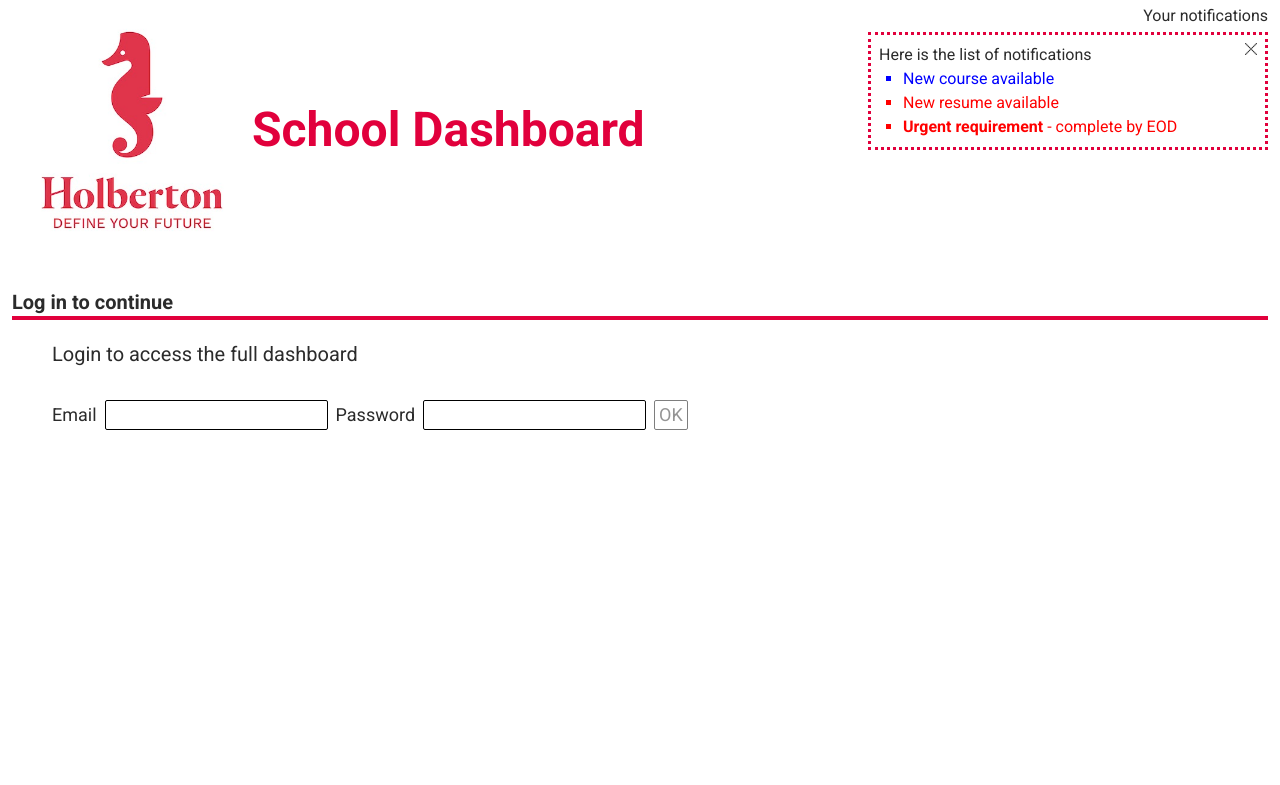
it: App › logs the user out when ctrl and h are pressed
The width and height of the screenshot is (1280, 785).
Type "user@example.com" into the field labelled "Email" at [216, 415], box [105, 400, 328, 430]
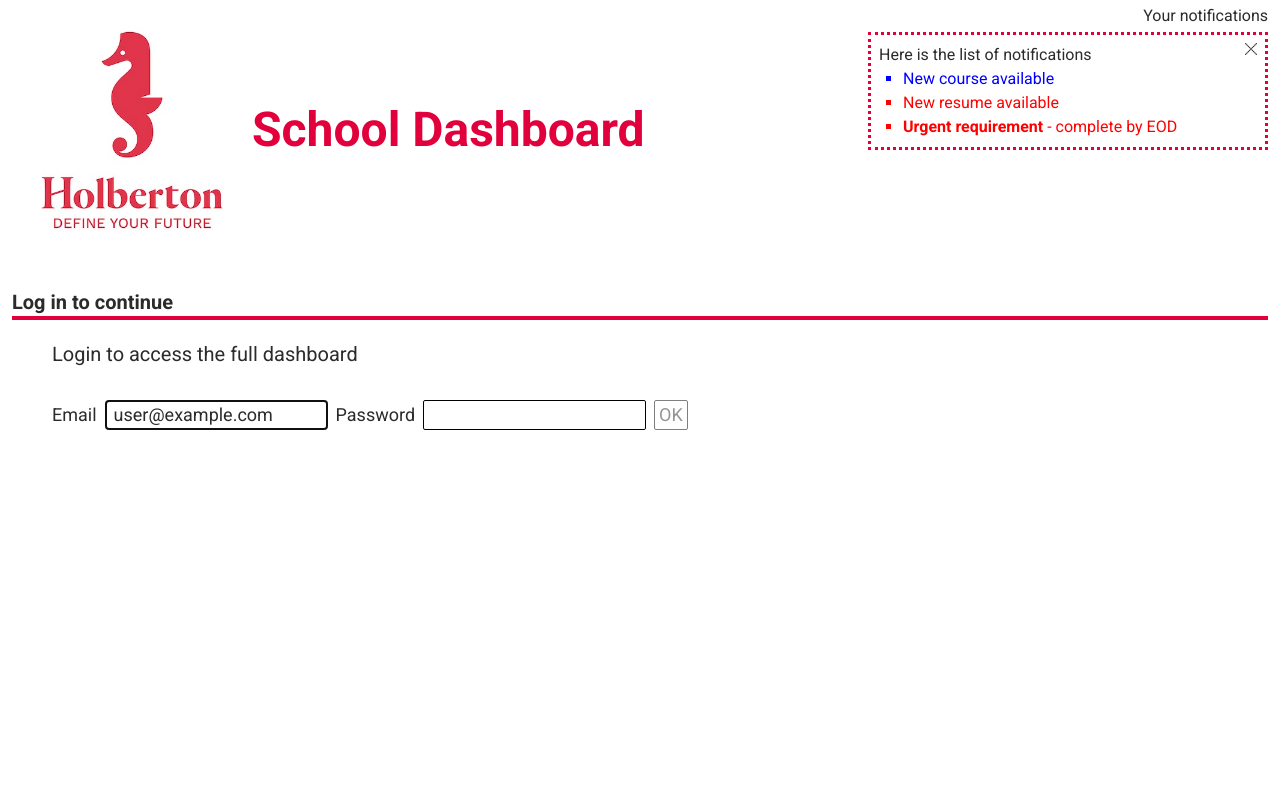
Type "secret-password" into the password field labelled "Password" at [535, 415], box [423, 400, 646, 430]
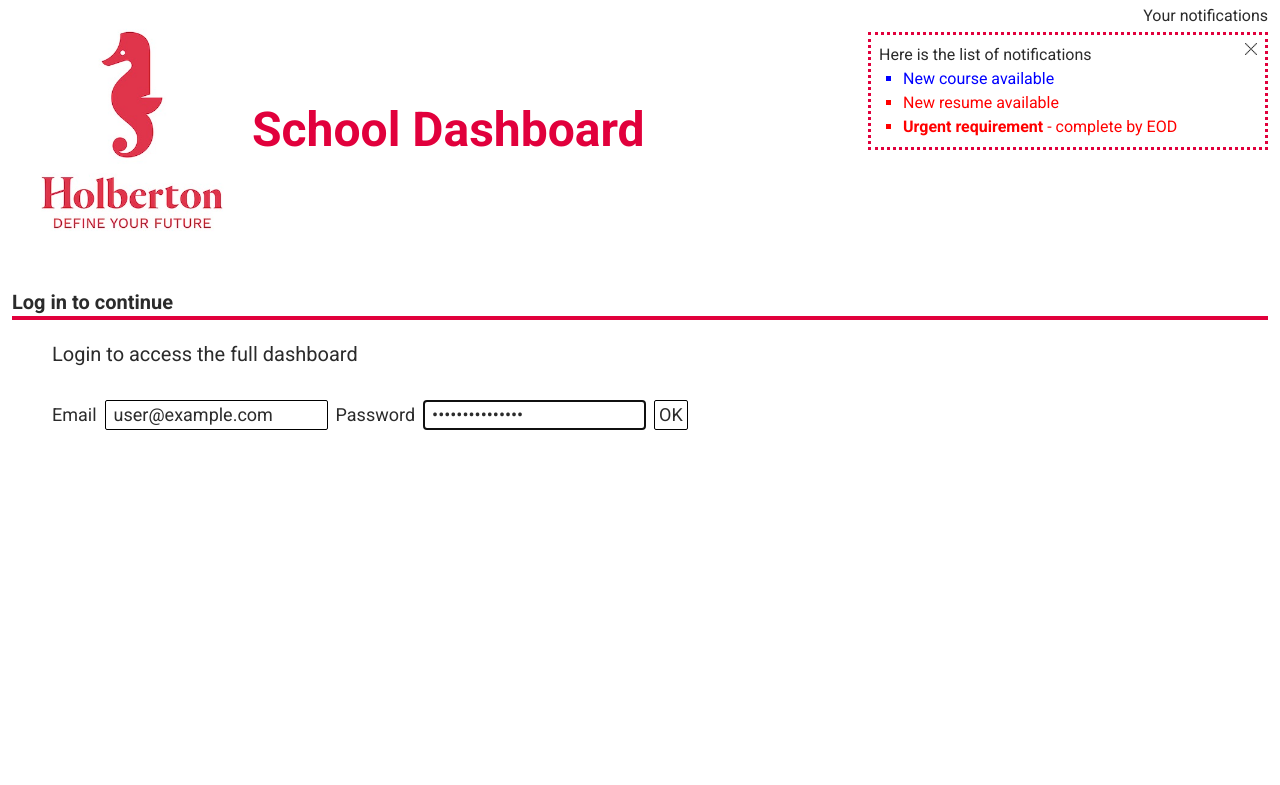
Click the button "OK" at [671, 415], box [654, 400, 688, 430]
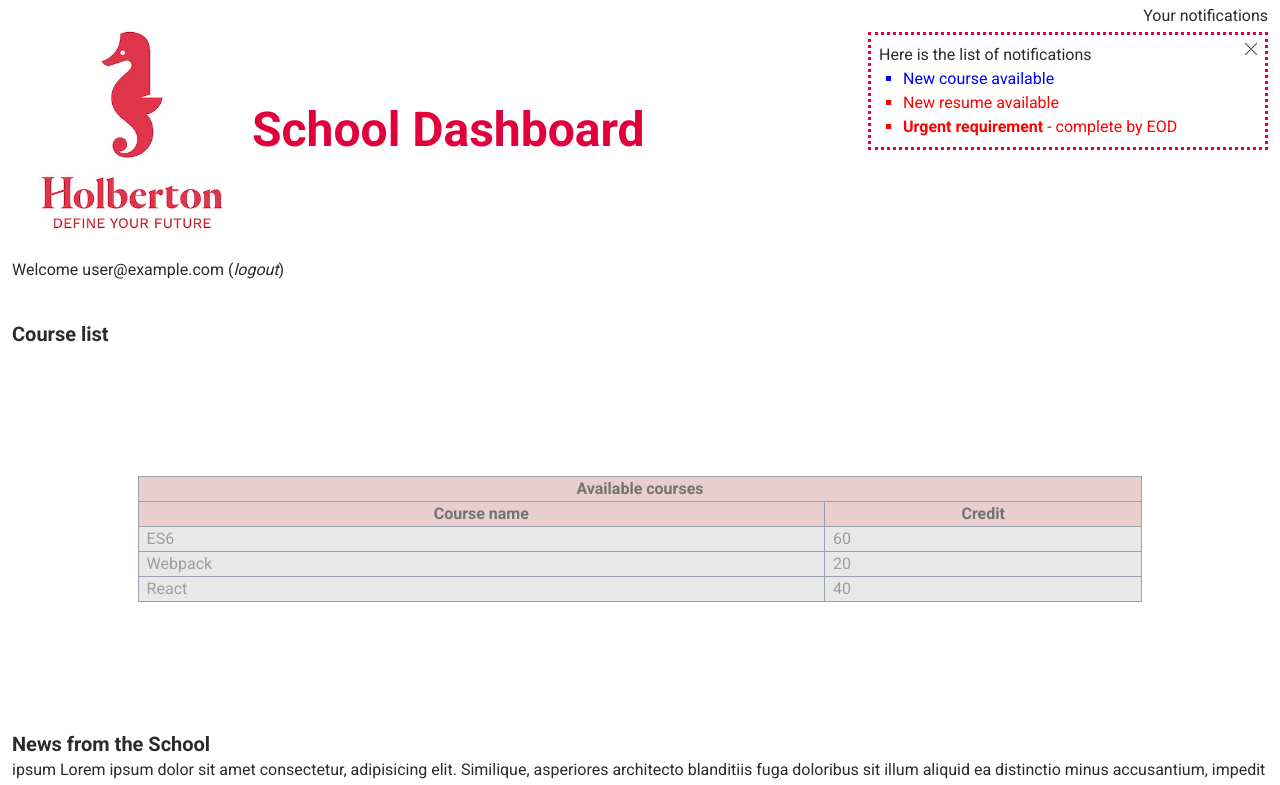
Type keys "{Control>}h{/Control}"
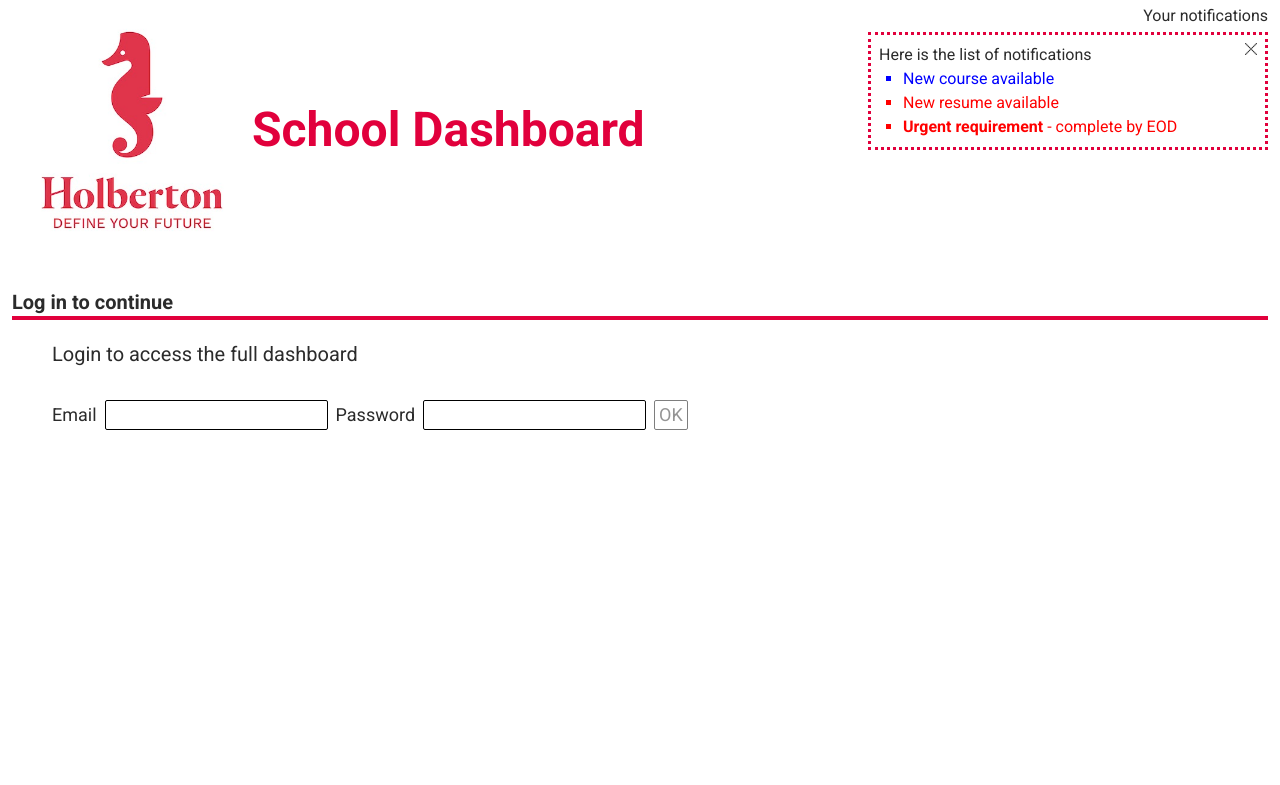
Expected: the table with id "CourseList" is gone
Expected: the text "Login to access the full dashboard" is shown, [52, 342, 358, 366]
